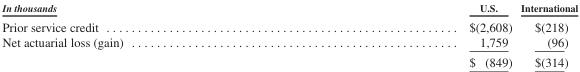table: (1, 1, 577, 68)
table column: (1, 1, 295, 68), (295, 1, 515, 68), (515, 1, 577, 68)
table column header: (1, 1, 577, 16)
table row: (1, 16, 577, 34), (1, 34, 577, 51), (1, 51, 577, 68), (1, 1, 577, 16)
